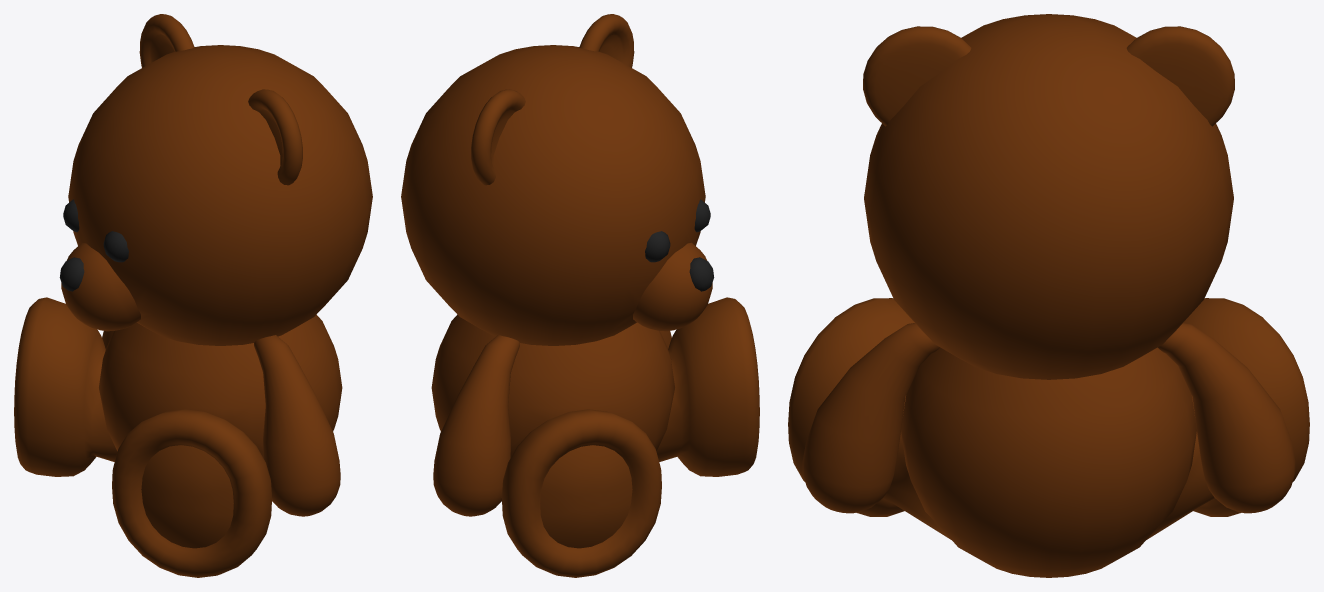
Rendered from TeddyBear_01.fbx.
3 renders of one model, left to right at view 1: azimuth 30°, elevation 25°; view 2: azimuth 150°, elevation 25°; view 3: azimuth 270°, elevation 25°, orthographic. The views are drawn at different scales.
Visible parts, largest first — view 1: TeddyBear_01; view 2: TeddyBear_01; view 3: TeddyBear_01.
Boxes of the visible parts, bbox=[...] form: TeddyBear_01: bbox=[14, 14, 372, 577]; TeddyBear_01: bbox=[401, 14, 759, 577]; TeddyBear_01: bbox=[788, 14, 1309, 577].
Bounding box in the file's own units: 55.42 × 80.86 × 71.14.
